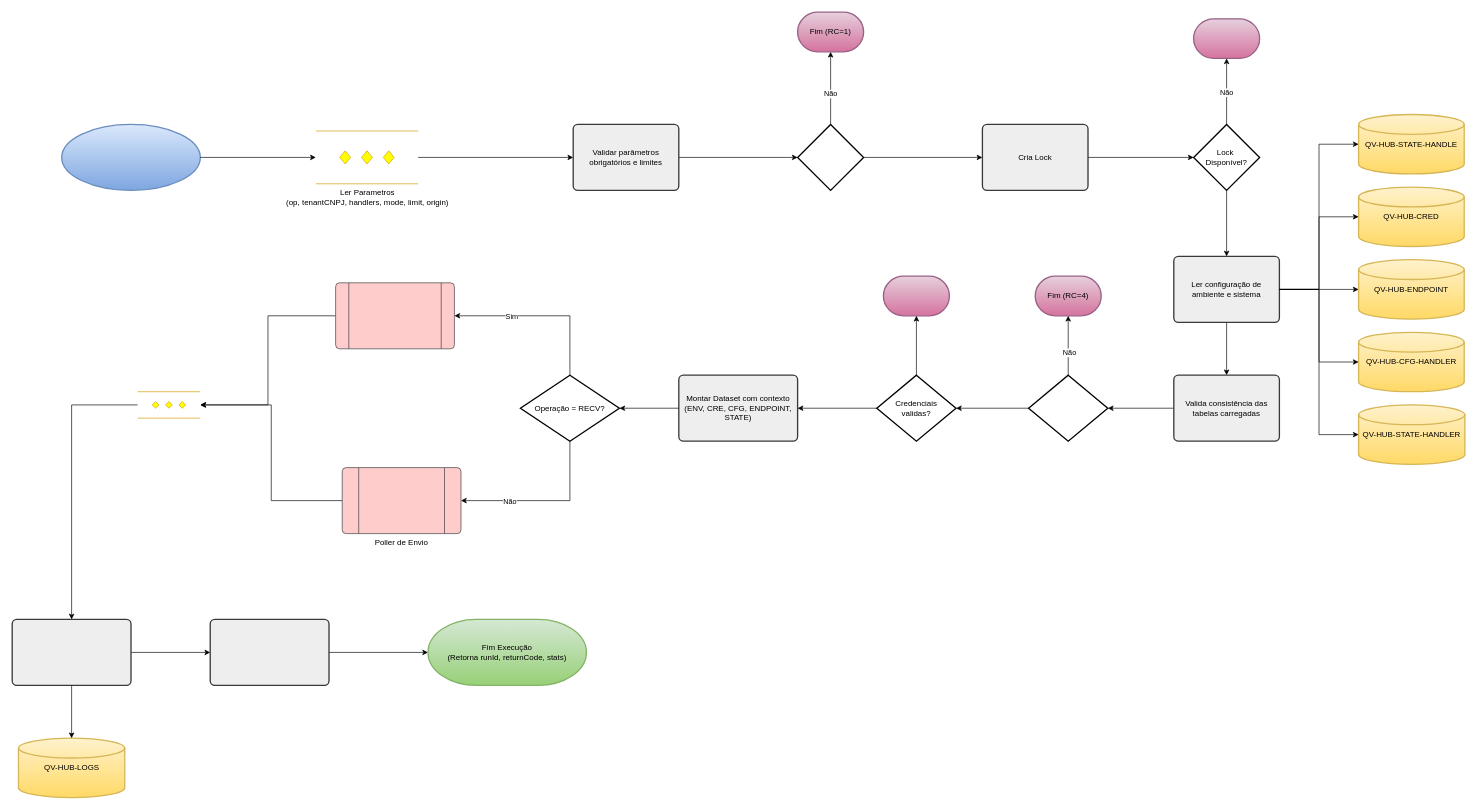
Image size: 1476x809. Some labels were removed from this diagram. The centre of each missing label's shape, as x and y in pixels:
"Configurações validas?" belongs at point 1068,408.
"Fim (RC=2)" belongs at point 1226,38.
"Fim (RC=5)" belongs at point 916,295.
"Gravar logs no Banco" belongs at point 71,652.
"Inicio da Execução Wrapper" belongs at point 131,157.
"Libera Lock" belongs at point 269,652.
"Parâmetros Validos?" belongs at point 830,157.
"Pooler de Recebimento" belongs at point 394,315.
"Recebe Resultados (processed, ok, err, skipped, runId, returnCode)" belongs at point 168,404.
